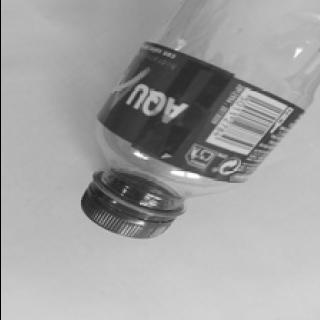plastic_bottles: (80, 0, 320, 241)
